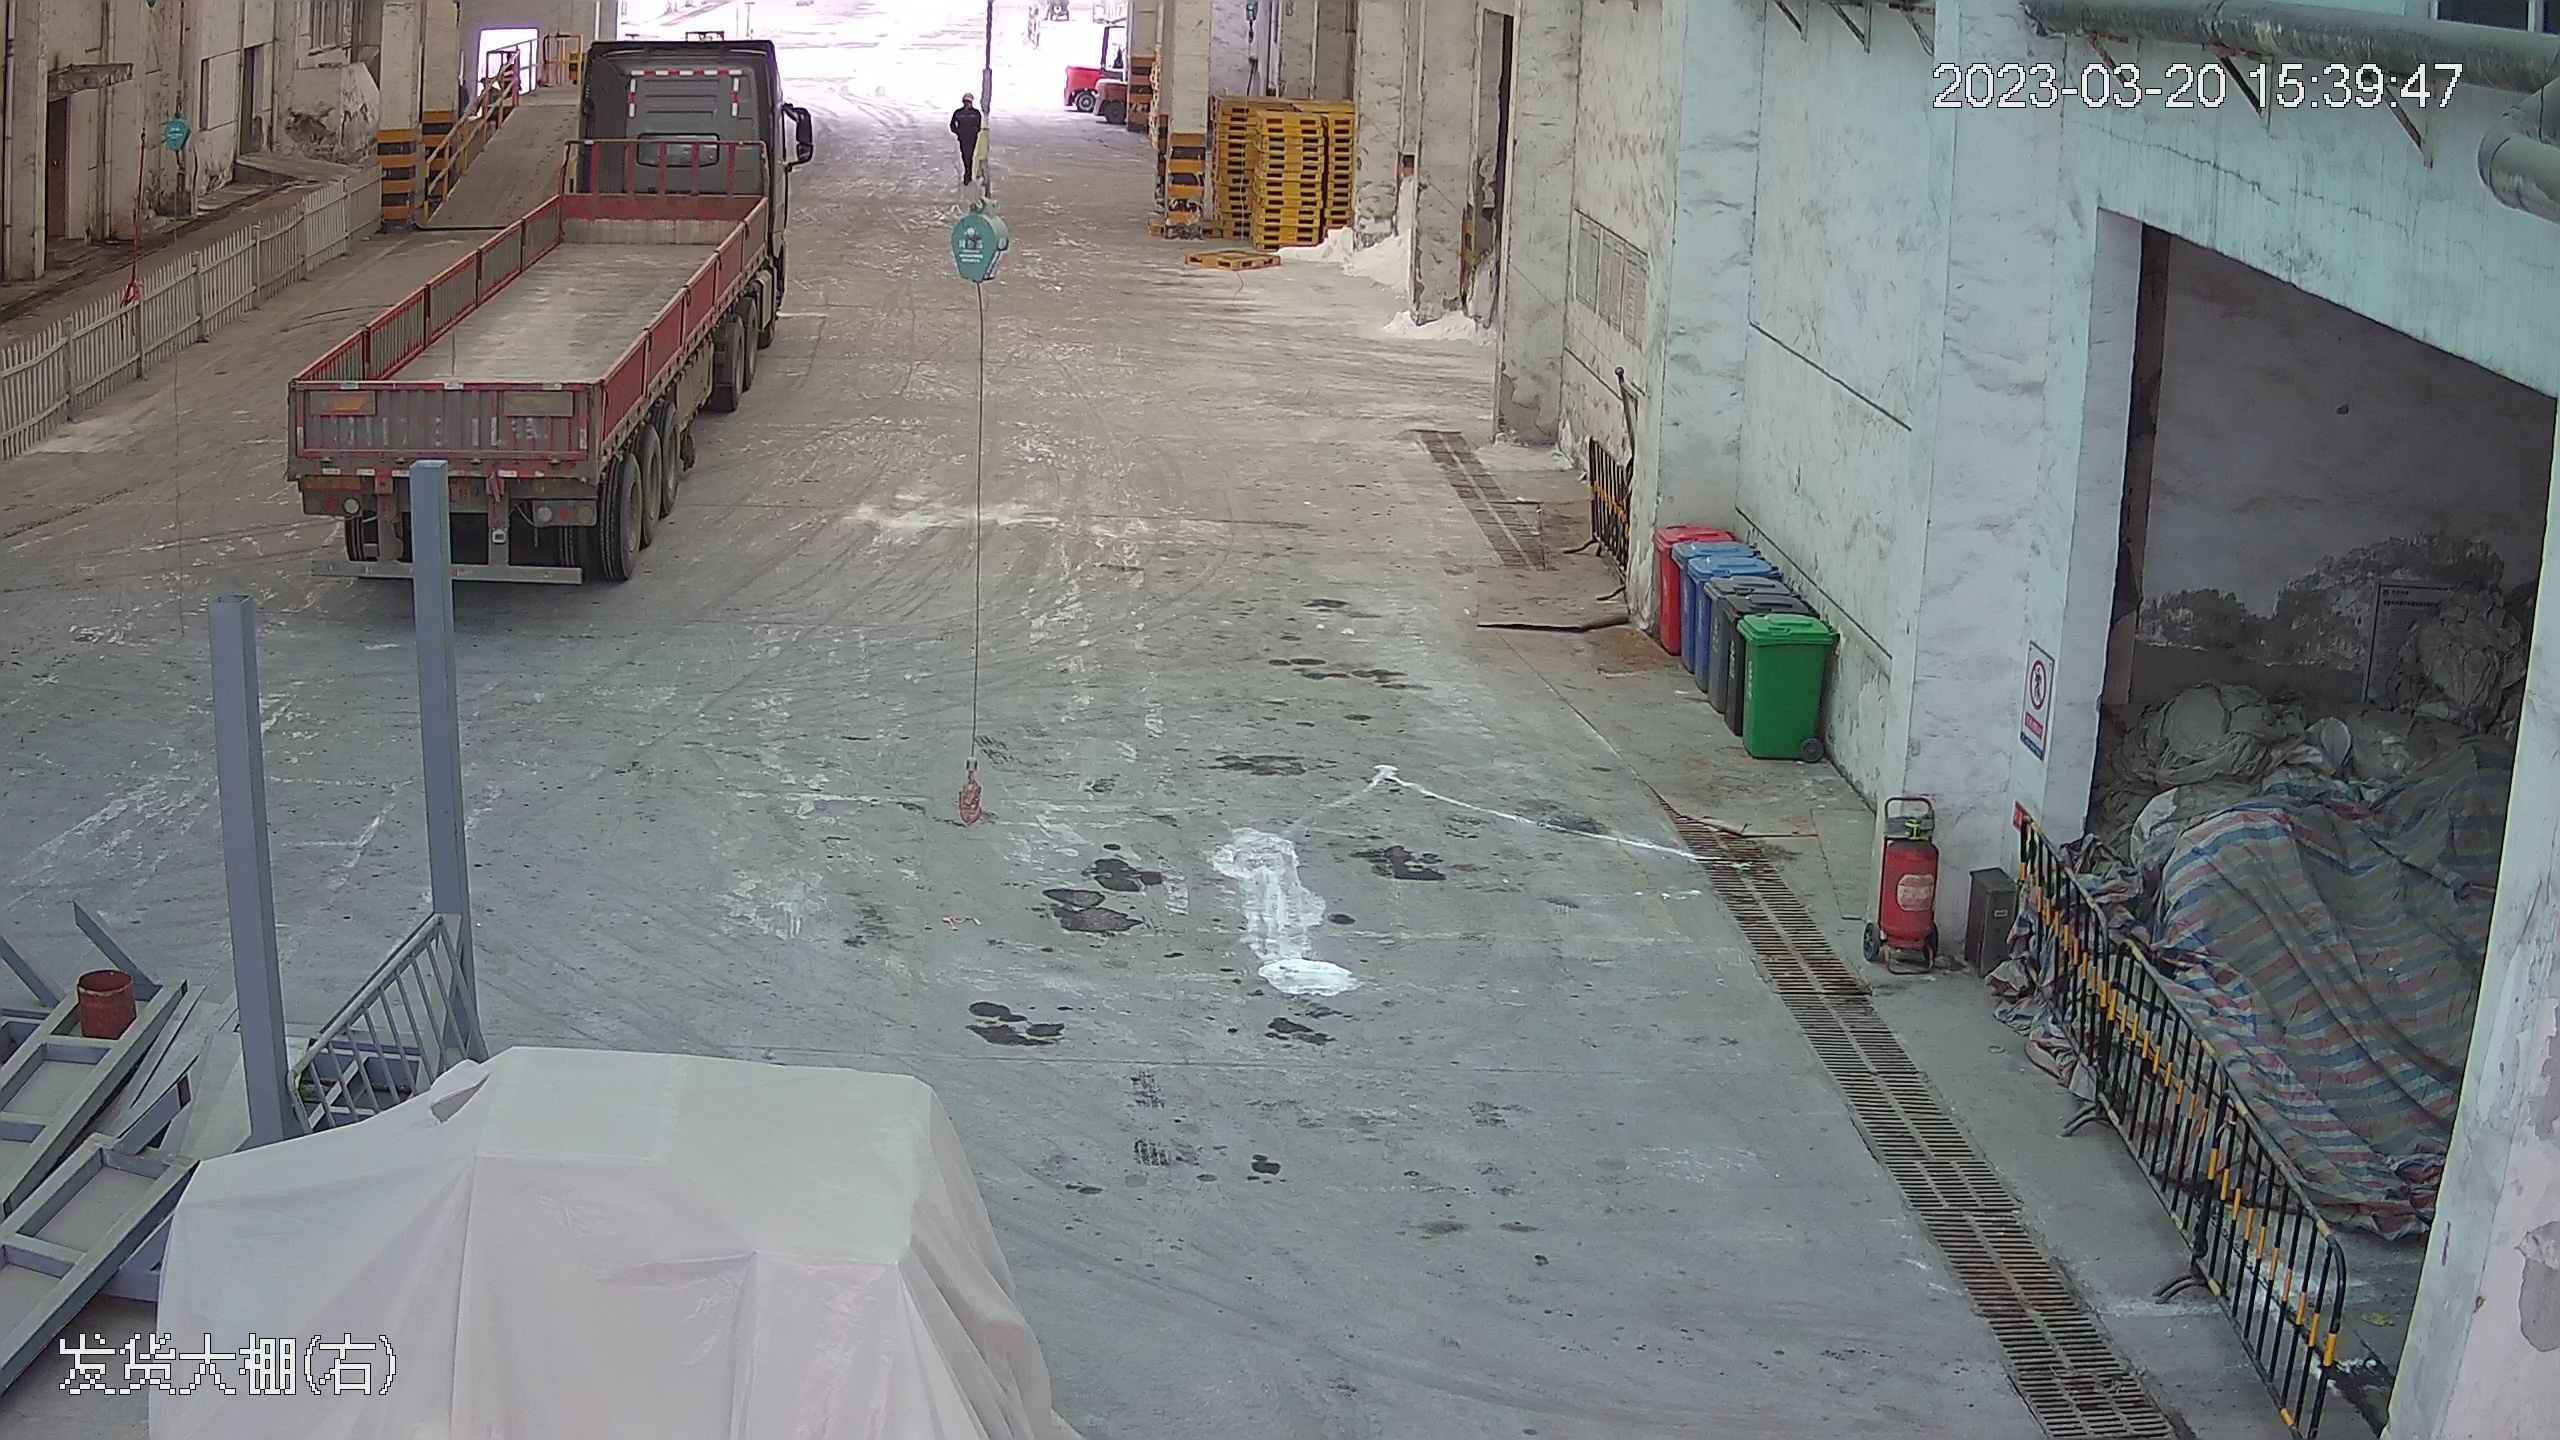head: (952, 83, 983, 118)
helmet: (962, 91, 976, 102)
people: (946, 82, 989, 185)
truck: (261, 13, 802, 591)
